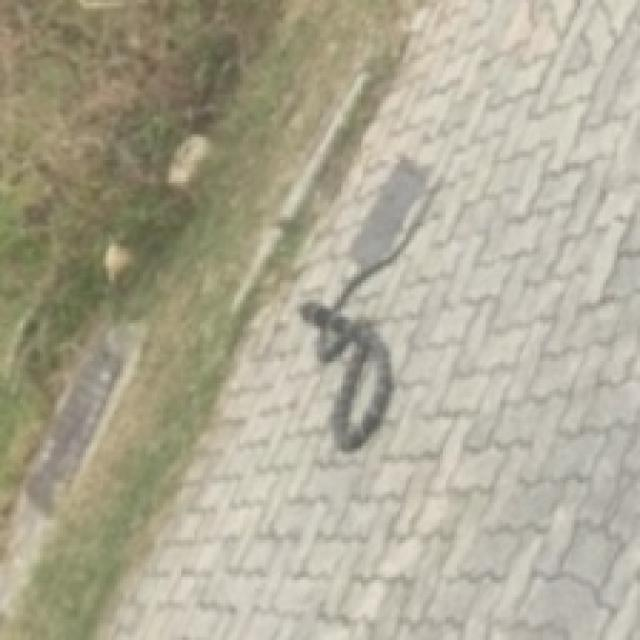king cobra: (300, 157, 431, 449), (300, 303, 389, 449)
